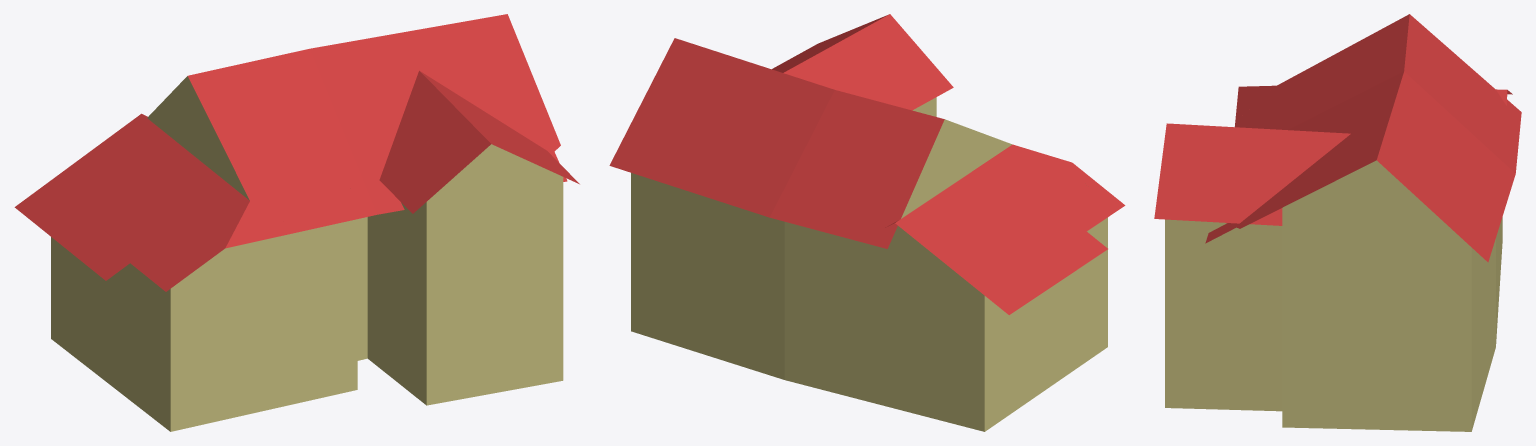
The picture shows the model from 3 angles, left to right: view 1: azimuth 30°, elevation 25°; view 2: azimuth 150°, elevation 25°; view 3: azimuth 270°, elevation 25°; orthographic projection. The views are drawn at different scales.
Size of the model in its own units: 20.57 by 14.92 by 12.21.
